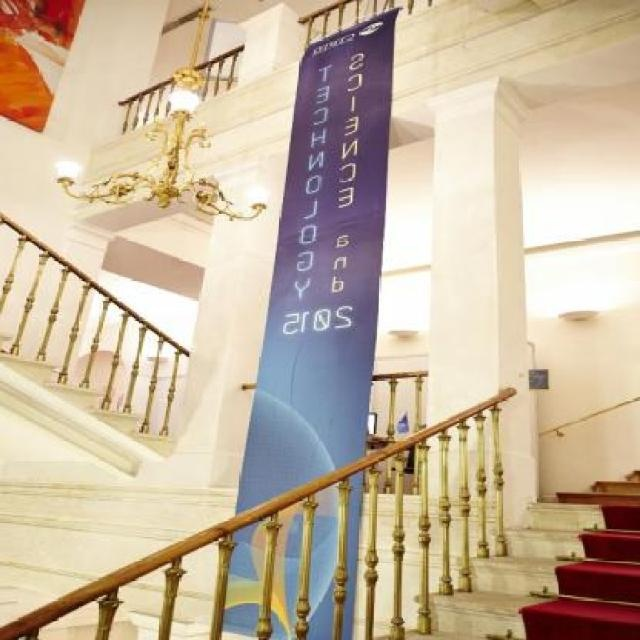stair: (371, 469, 640, 640), (0, 320, 174, 478)
